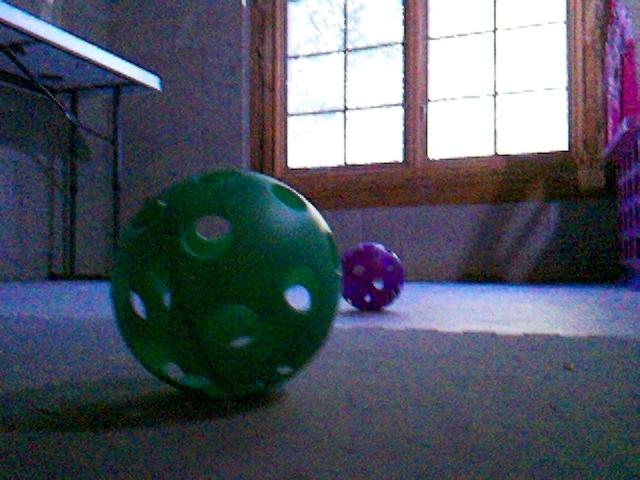Green: (111, 168, 339, 399)
Purple: (339, 242, 405, 311)
